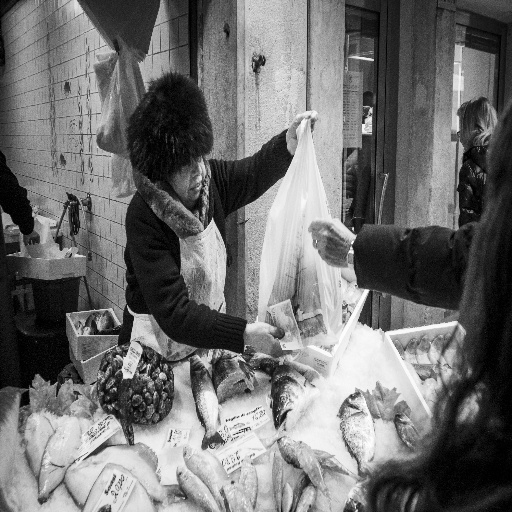hand: (315, 212, 368, 268), (245, 319, 293, 358), (285, 108, 319, 153), (21, 230, 41, 247)
